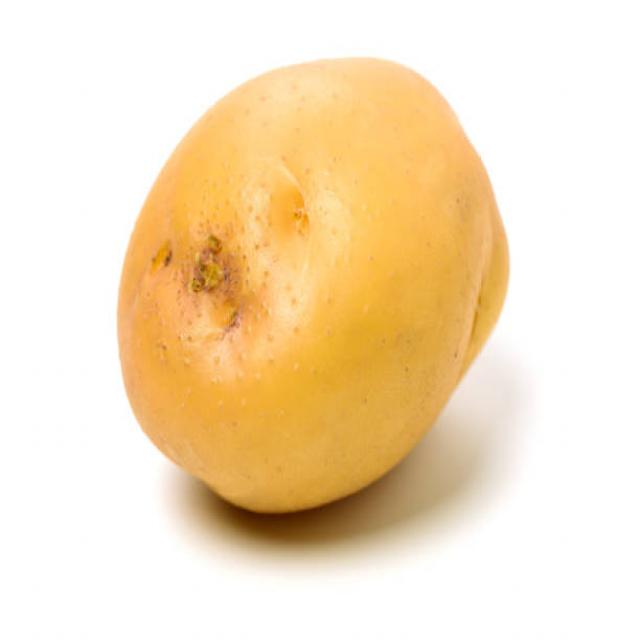potato: (110, 44, 518, 523)
